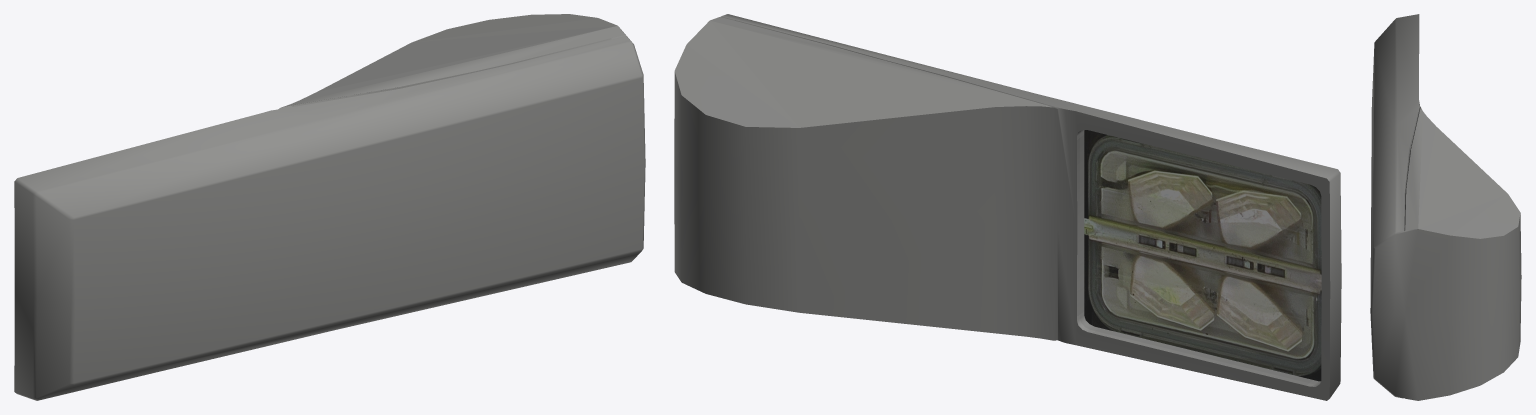
The model's file is Streetlight_SL_10_Micro.obj.
The picture shows the model from 3 angles, left to right: view 1: azimuth 30°, elevation 25°; view 2: azimuth 150°, elevation 25°; view 3: azimuth 270°, elevation 25°; orthographic projection. The views are drawn at different scales.
Visible parts, largest first — view 1: BezierCurve.005; view 2: BezierCurve.005, Glas; view 3: BezierCurve.005.
Part boxes in pixels (<box>): BezierCurve.005: <box>14,14,645,400</box>; BezierCurve.005: <box>674,14,1341,400</box>; Glas: <box>1080,130,1320,383</box>; BezierCurve.005: <box>1370,14,1521,400</box>.
Size of the model in its own units: 0.479 by 0.1732 by 0.1379.
3 materials, 2 textured.
